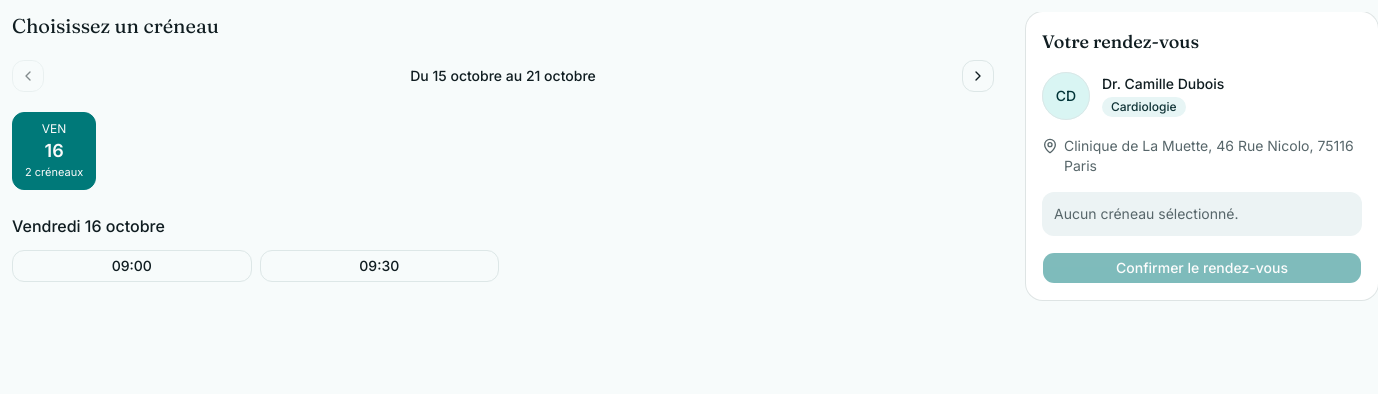
Test: BookingFlow › perd la course sur un créneau : message, sélection effacée, créneaux rechargés
Click the button "09:00" at (132, 266), box [12, 250, 252, 282]
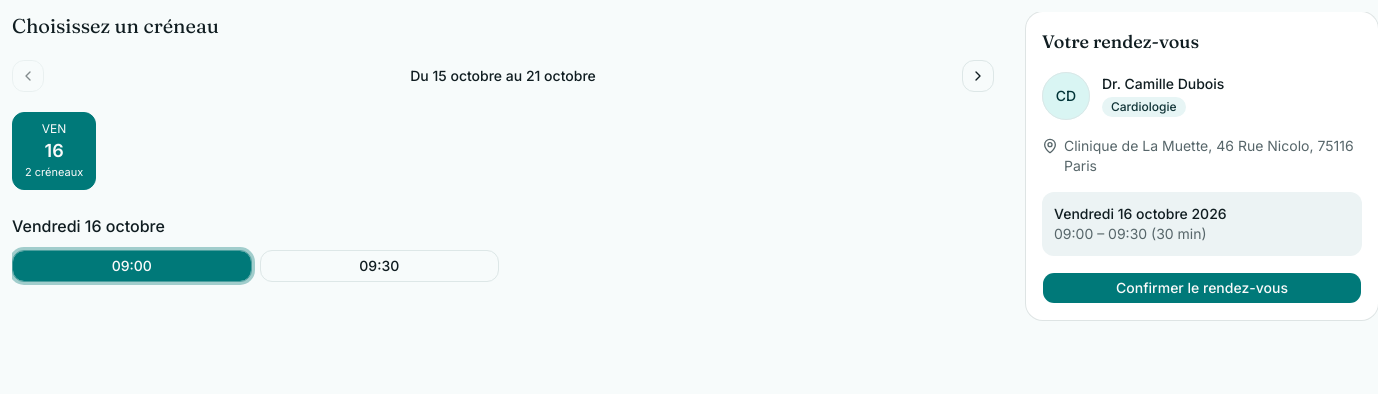
Click the button "Confirmer le rendez-vous" at (1202, 288), box [1042, 272, 1362, 304]
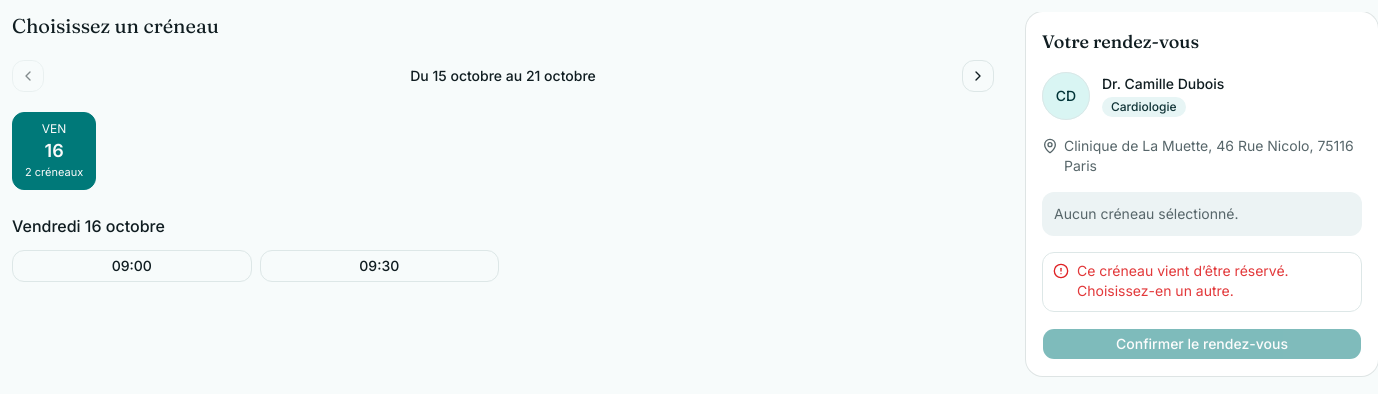
Expected: the message shows "créneau", [1077, 262, 1289, 299]
Expected: the text "Aucun créneau sélectionné." is shown, [1054, 205, 1238, 222]
